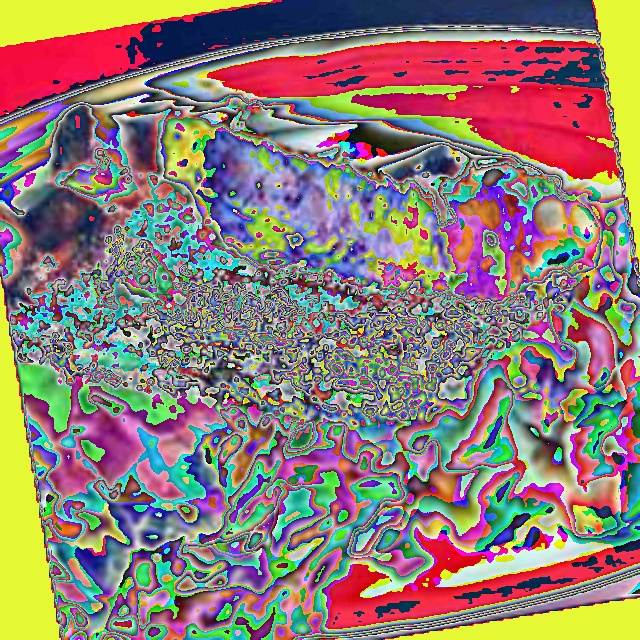background: (0, 103, 640, 639)
